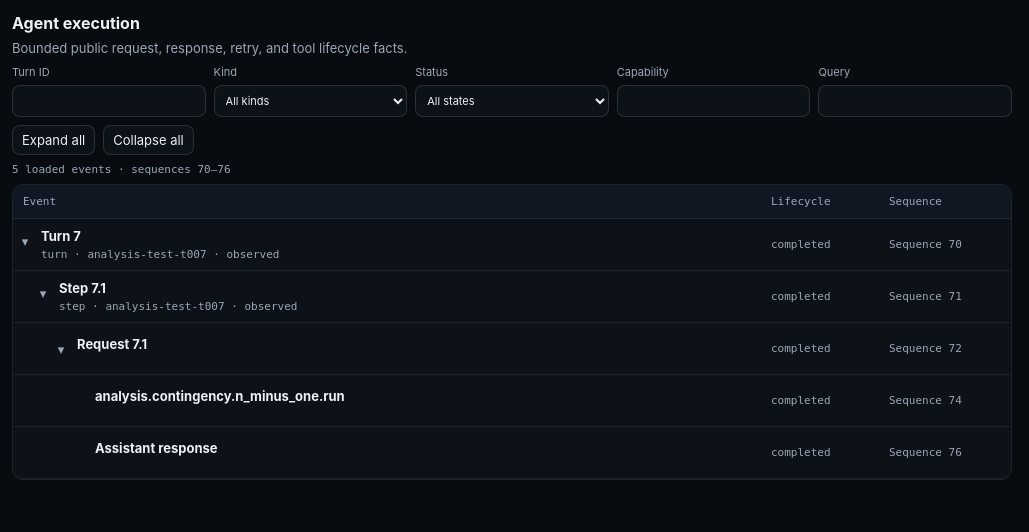
it: AgentView › selects a tool without replacing its identity with a sequence node
This screenshot has width=1029, height=532.
Click the row "analysis.contingency.n_minus_one.run completed Sequence 74" at (512, 401), box [13,375,1011,427]
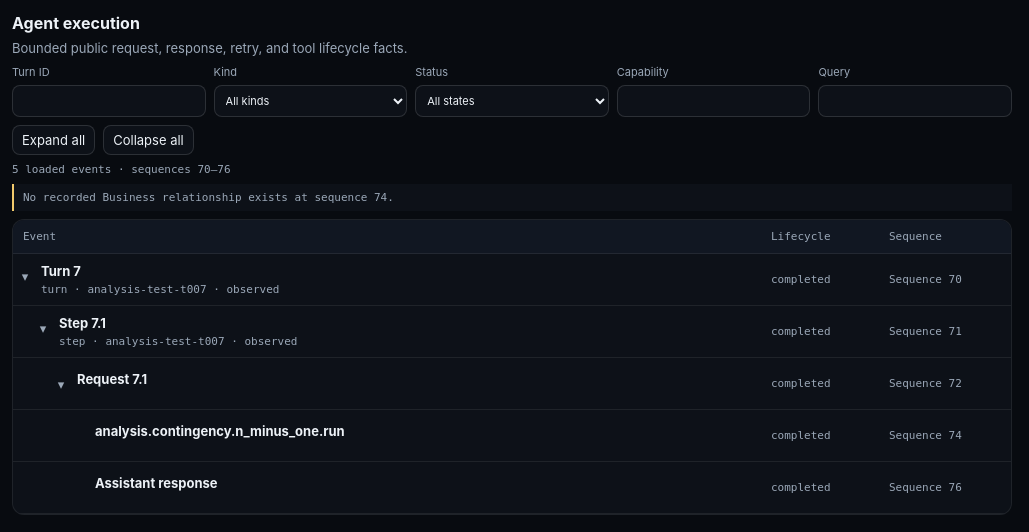
Now the message reads "No recorded Business relationship exists at sequence 74.", box [12,184,1012,211]
